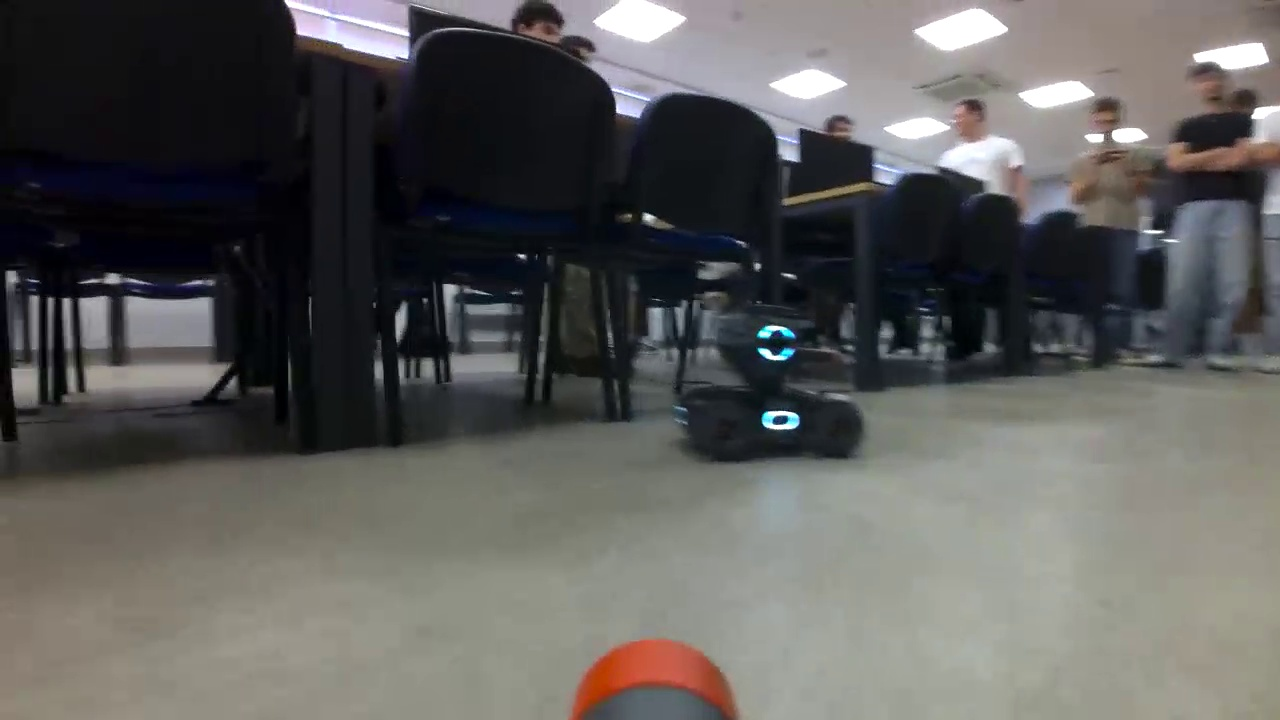robot: (672, 318, 865, 460)
